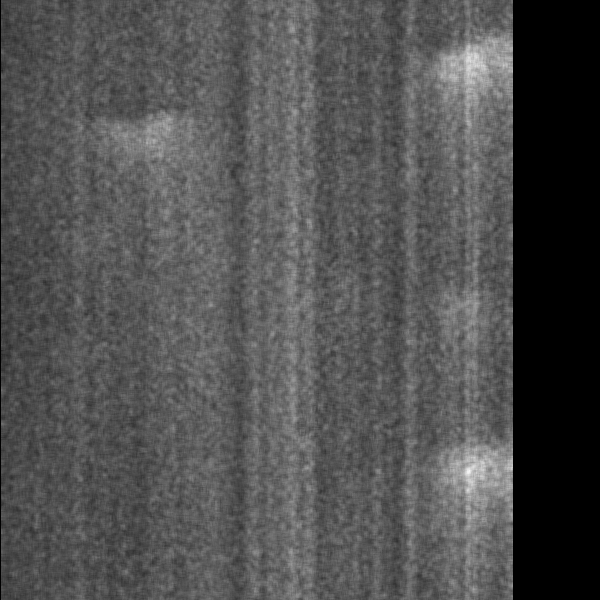spark: (440, 435, 514, 582), (92, 107, 183, 213), (408, 35, 497, 139)
